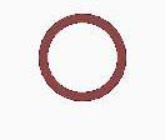RadioButton: (1, 1, 164, 139)
